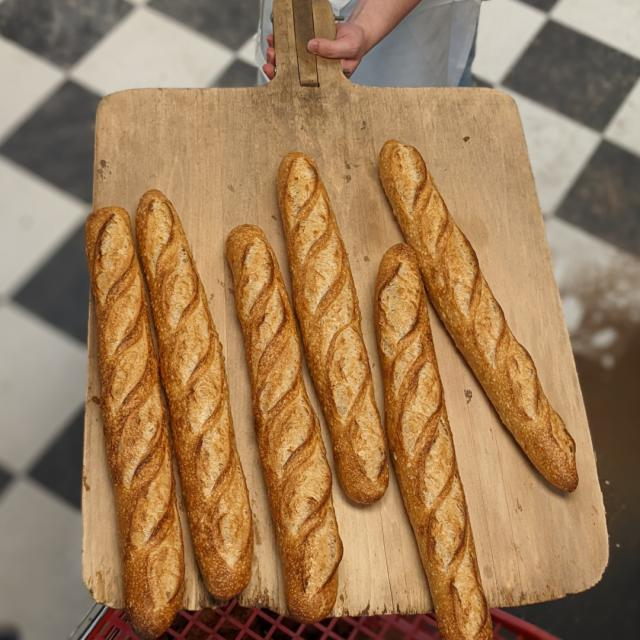Baguette: (377, 141, 577, 490), (225, 223, 344, 621), (137, 194, 252, 602), (375, 243, 493, 639), (85, 207, 185, 639), (278, 153, 385, 505)
